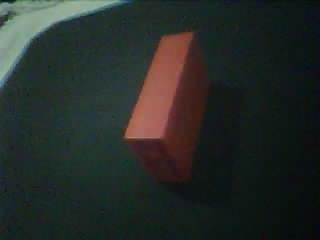lego: (123, 30, 211, 181)
